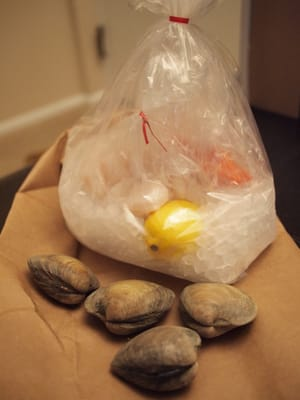sushi: (57, 13, 277, 285)
